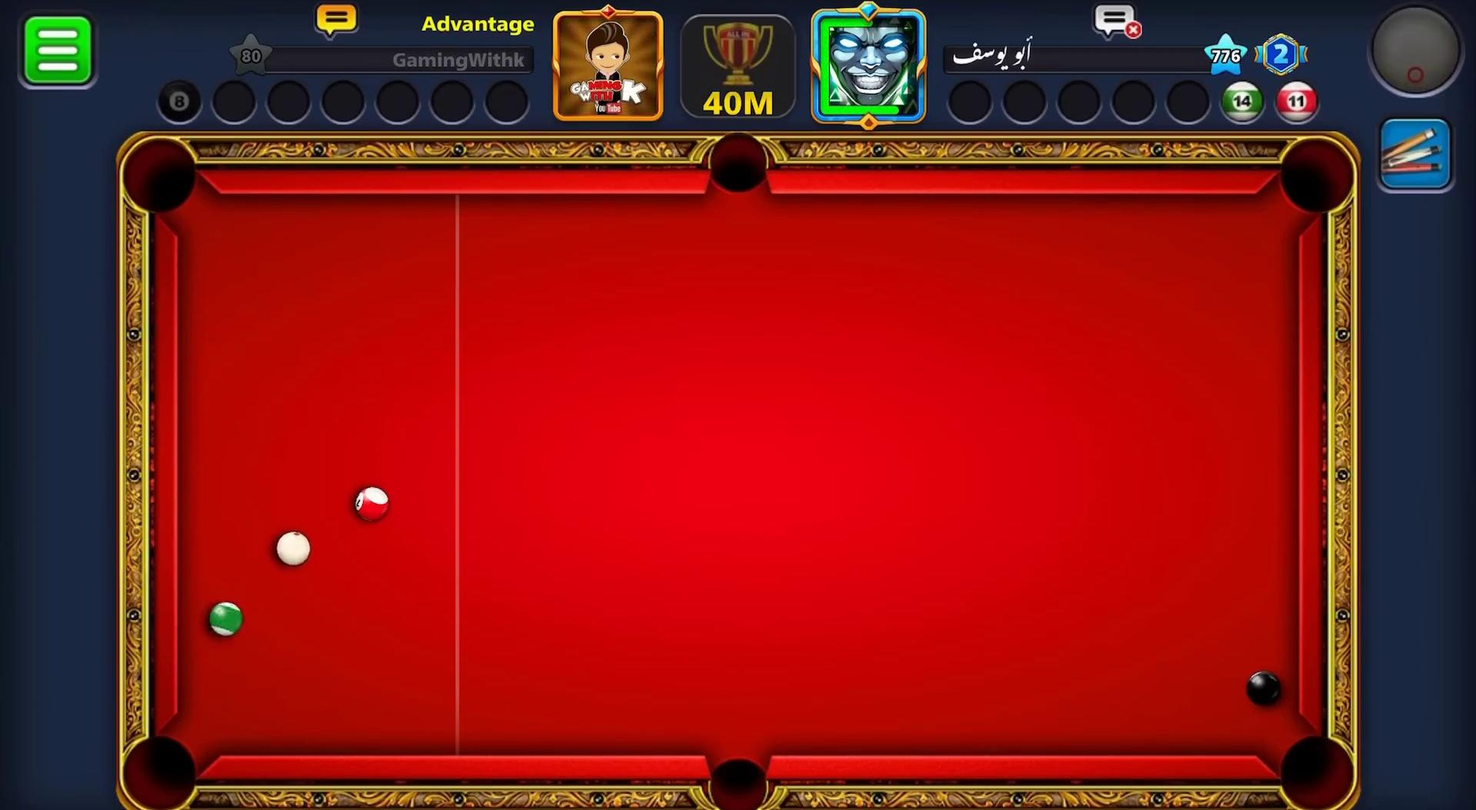Ball: (1237, 662, 1294, 709), (350, 482, 395, 524), (203, 599, 247, 638)
Hole: (1255, 718, 1372, 809), (699, 126, 777, 211), (1277, 136, 1356, 216), (122, 135, 200, 214), (122, 733, 198, 808), (704, 755, 771, 809)
Play_Area: (177, 194, 1295, 758)
Spin: (1364, 2, 1475, 106)
White: (271, 528, 312, 565)
